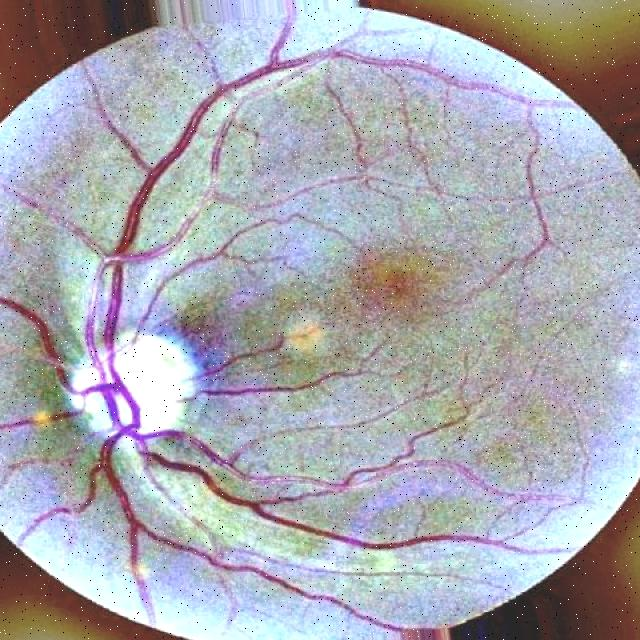Macula: (272, 303, 343, 358)
Nerves: (28, 41, 391, 612), (153, 423, 344, 496), (0, 294, 109, 402), (129, 254, 217, 353), (170, 379, 307, 410)
Optic Disk: (59, 333, 207, 446)
